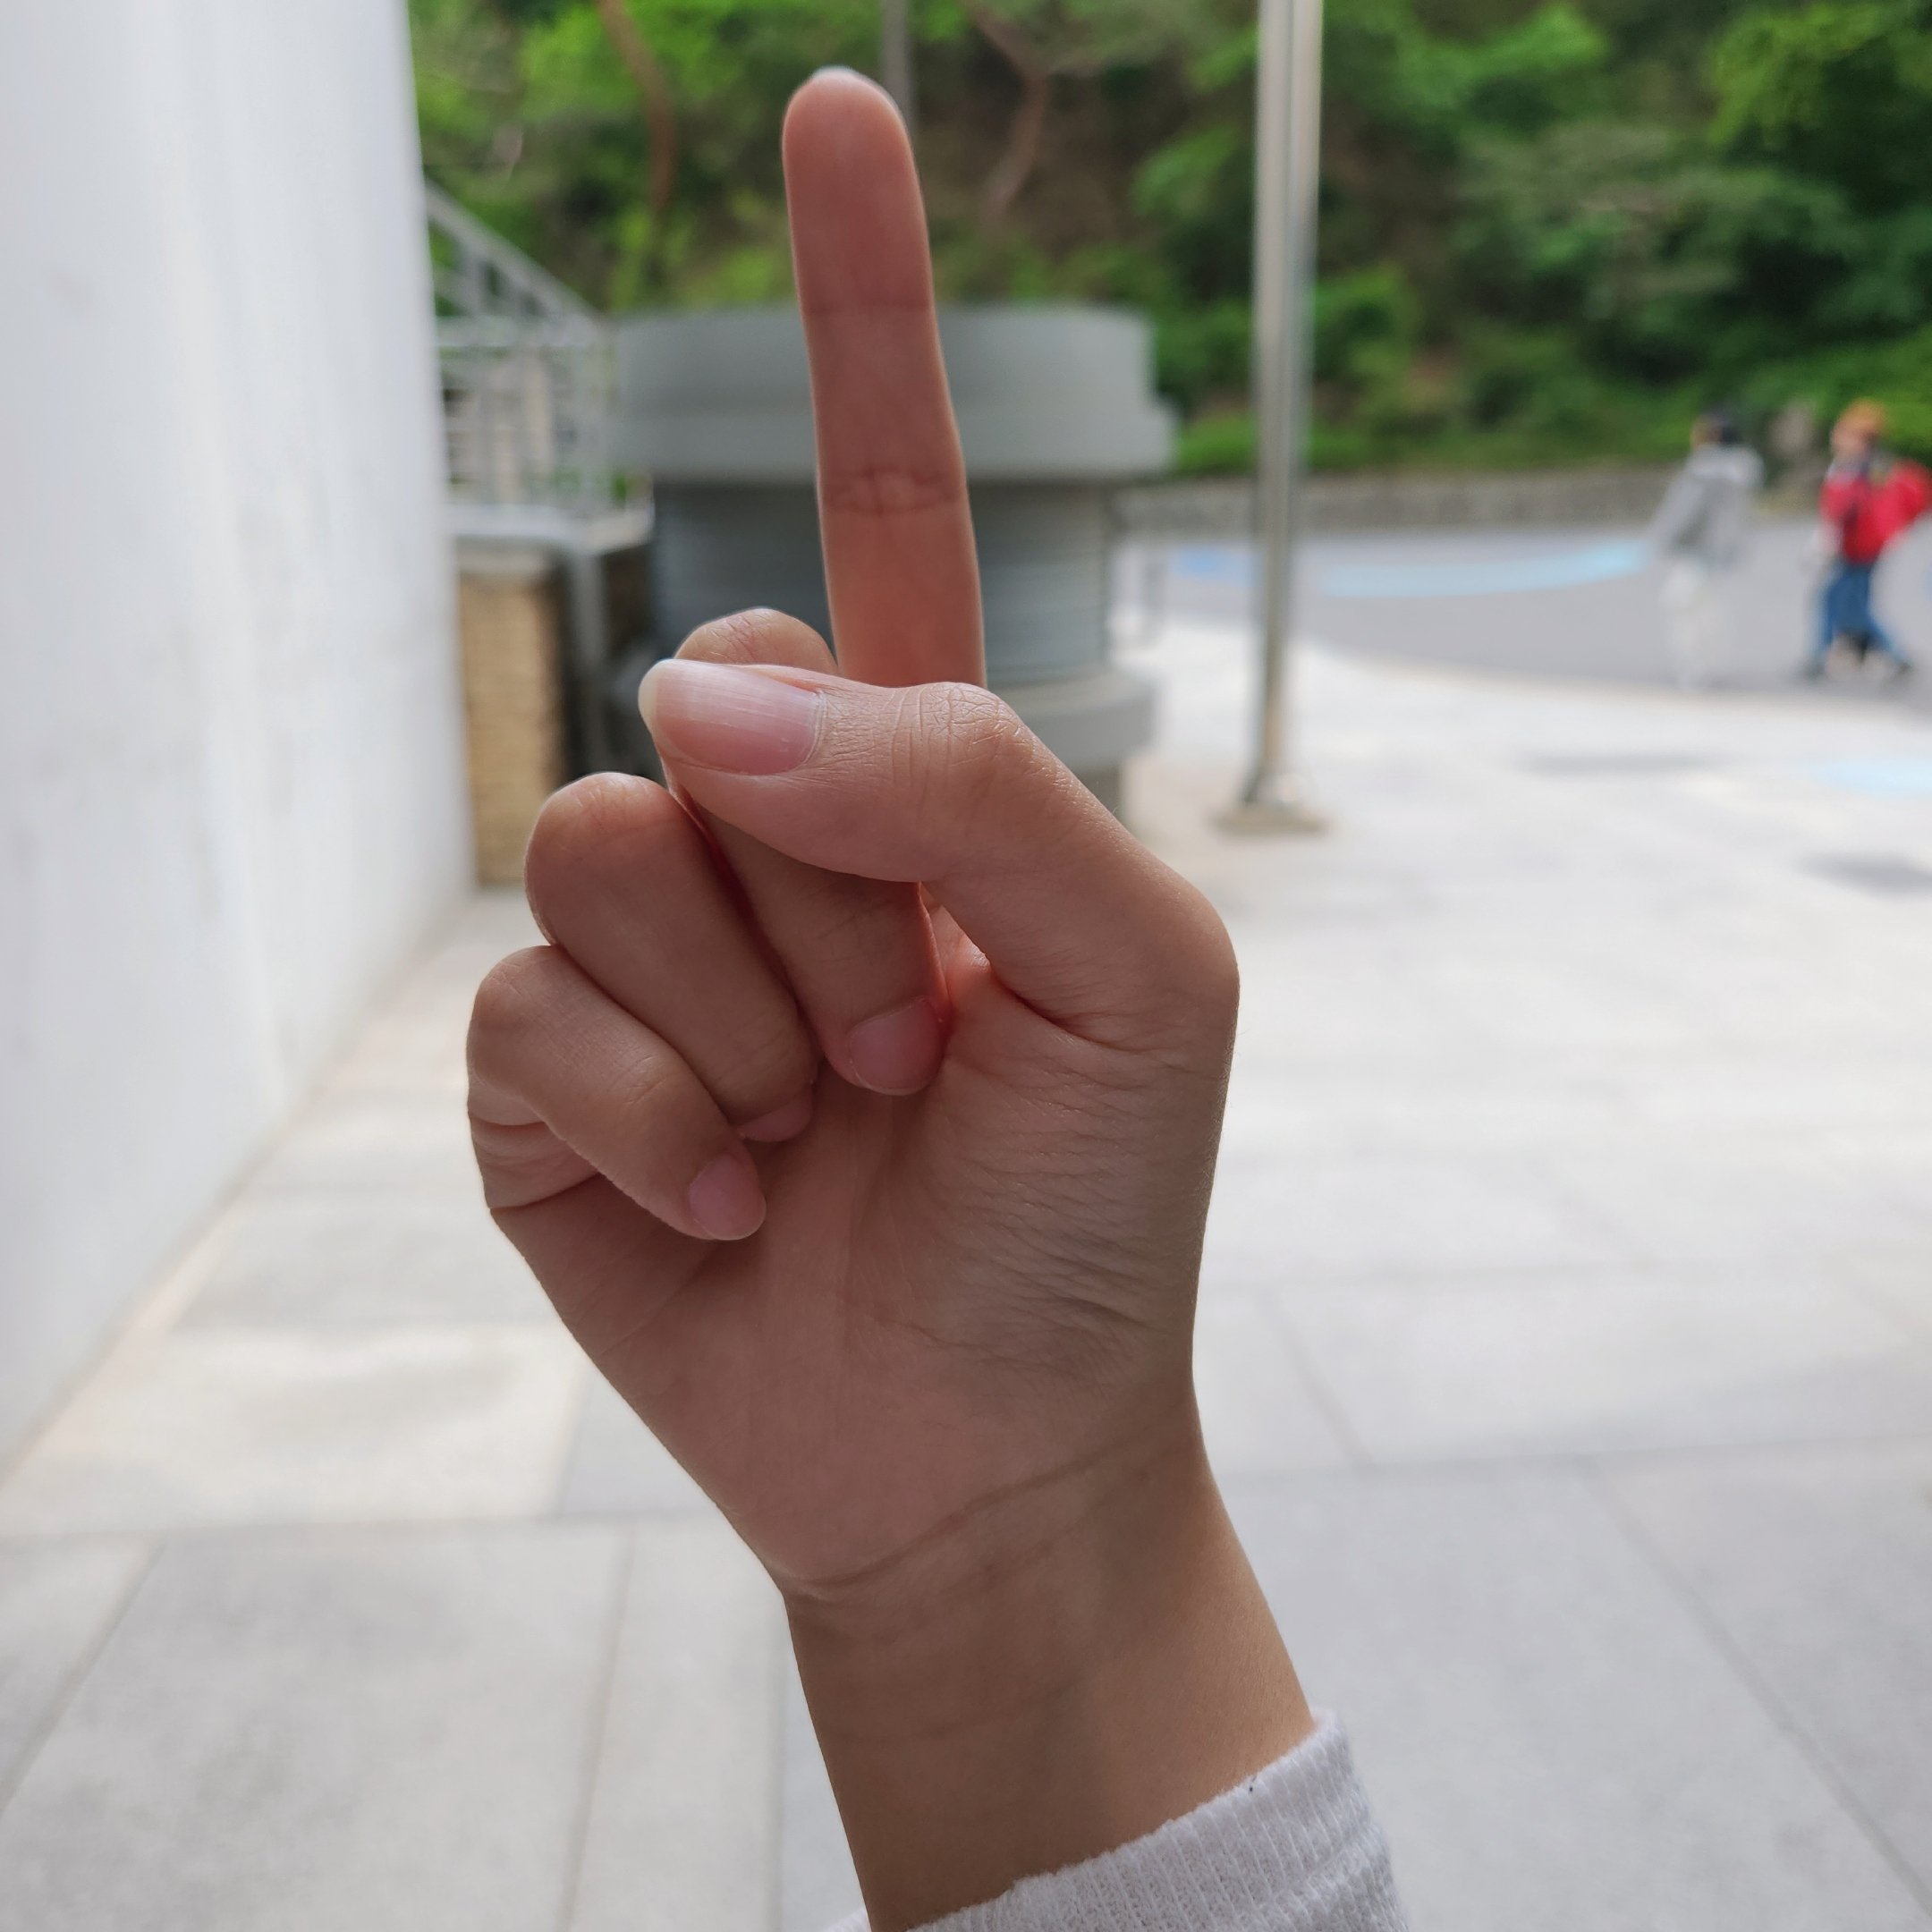what: (456, 65, 1246, 1548)
